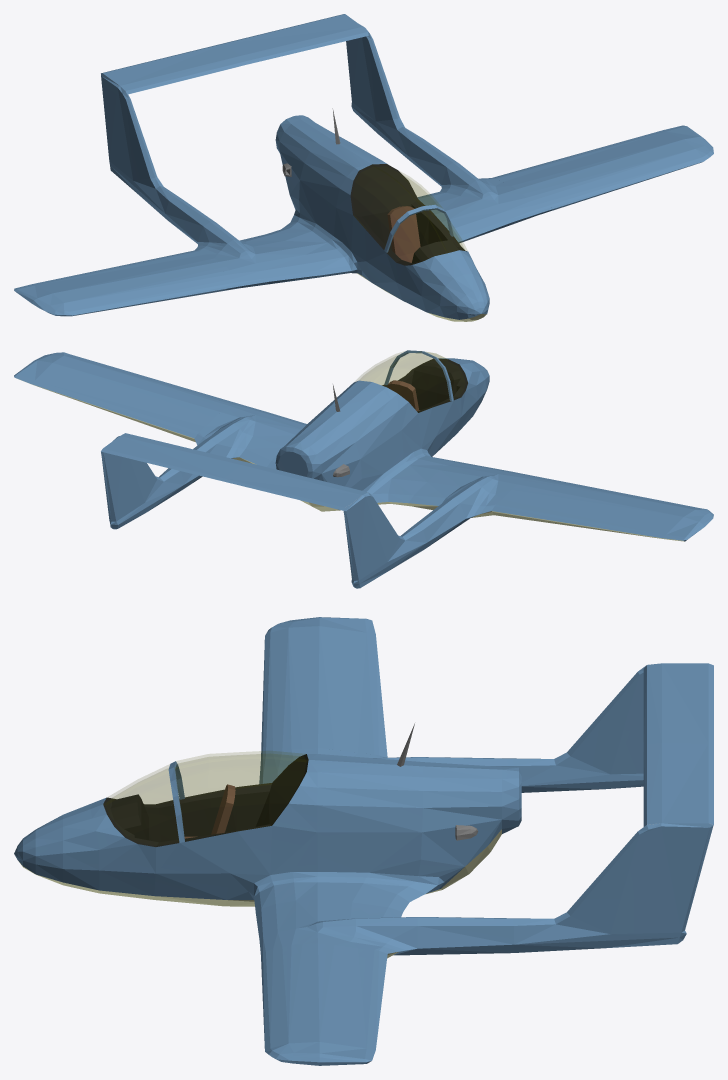
The model's file is aircraft_5_stable.glb.
The picture shows the model from 3 angles, top to bottom: view 1: azimuth 30°, elevation 25°; view 2: azimuth 150°, elevation 25°; view 3: azimuth 270°, elevation 25°; orthographic projection. The views are drawn at different scales.
Visible parts, largest first — view 1: body, outer wing left, outer wing right, canopy; view 2: body, outer wing left, outer wing right, canopy; view 3: body, outer wing right, outer wing left, canopy.
Boxes of the visible parts, x1=… form: body: x1=101, y1=14, x2=552, y2=321; outer wing left: x1=492, y1=125, x2=713, y2=210; outer wing right: x1=14, y1=250, x2=229, y2=316; canopy: x1=353, y1=165, x2=466, y2=264; body: x1=101, y1=350, x2=550, y2=588; outer wing left: x1=14, y1=352, x2=229, y2=442; outer wing right: x1=491, y1=478, x2=713, y2=541; canopy: x1=355, y1=351, x2=464, y2=412; body: x1=14, y1=663, x2=713, y2=963; outer wing right: x1=261, y1=617, x2=387, y2=757; outer wing left: x1=261, y1=943, x2=387, y2=1065; canopy: x1=104, y1=751, x2=307, y2=845.
Size of the model in its own units: 13.52 by 2.53 by 9.02.
